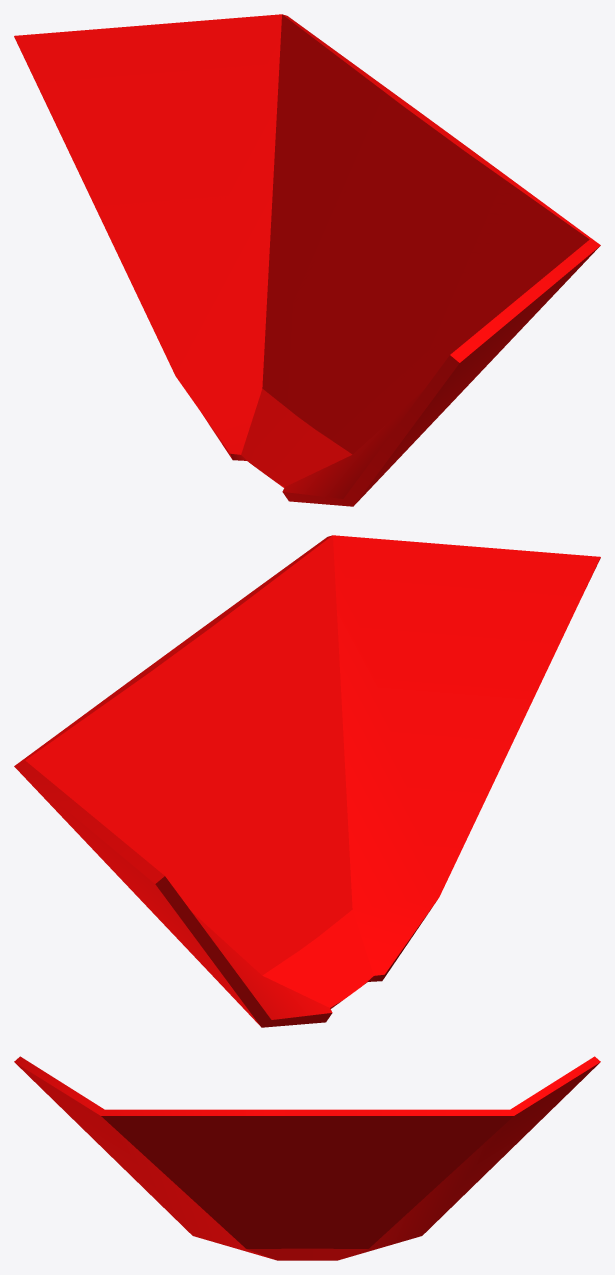
Rendered from Front Bottom.FBX.
3 renders of one model, top to bottom at view 1: azimuth 30°, elevation 25°; view 2: azimuth 150°, elevation 25°; view 3: azimuth 270°, elevation 25°, orthographic. The views are drawn at different scales.
Visible parts, largest first — view 1: Object201; view 2: Object201; view 3: Object201.
Boxes of the visible parts, left/top/right/bottom form: Object201: left=14, top=14, right=600, bottom=506; Object201: left=14, top=535, right=600, bottom=1027; Object201: left=14, top=1056, right=600, bottom=1260.
Bounding box in the file's own units: 130 × 181 × 471.
